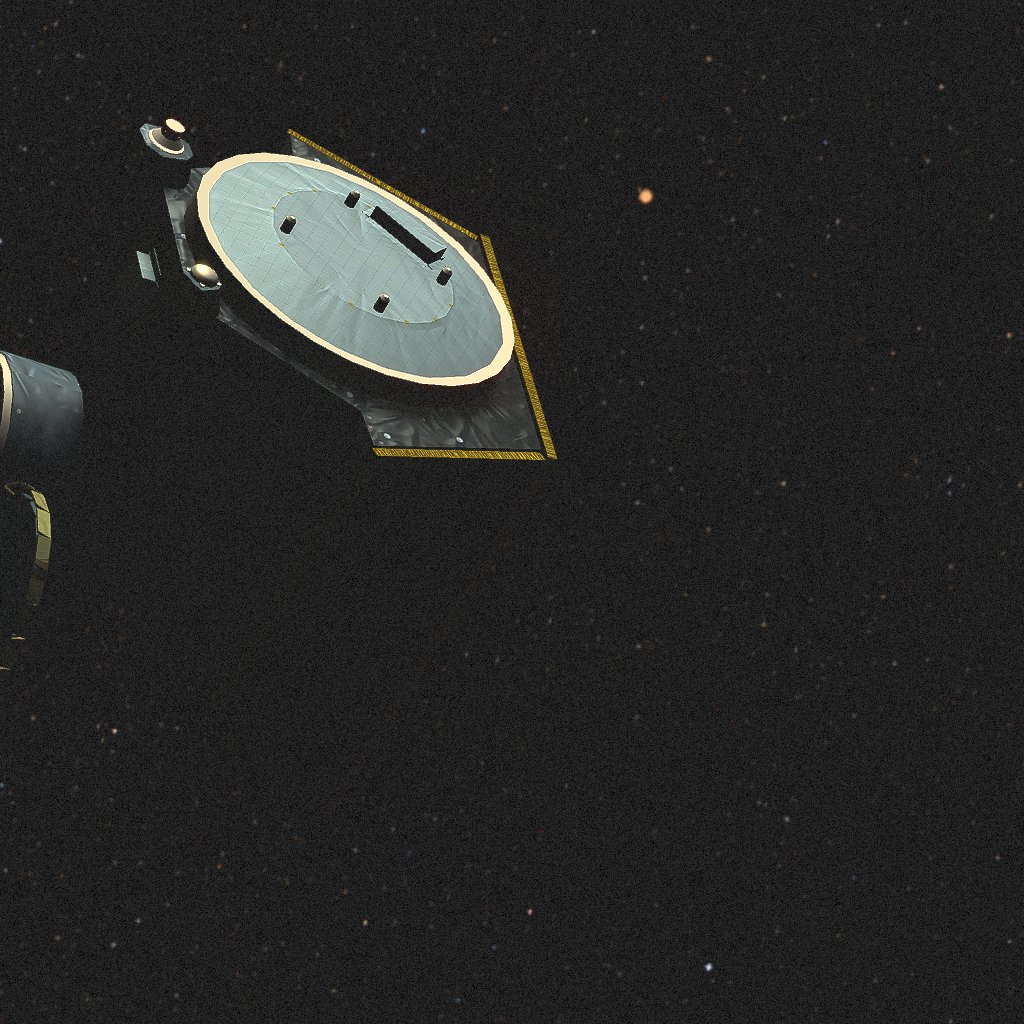cheops: (0, 119, 557, 816)
